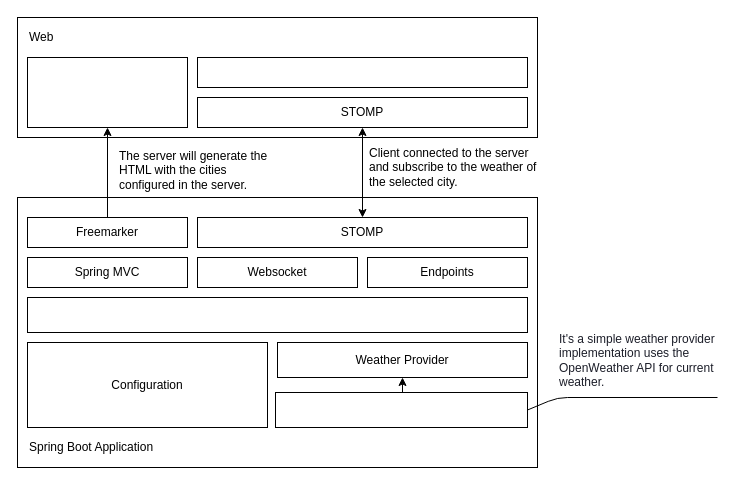
The diagram is 755 pixels wide and 485 high, and some of its shapes have lost their labels. Each missing label, with the centre of its shape:
"HTML / Bootstrap" belongs at (x=107, y=92).
"OpenWeather Implementation" belongs at (x=401, y=410).
"Service Layer" belongs at (x=277, y=314).
"SocketJS" belongs at (x=362, y=72).
